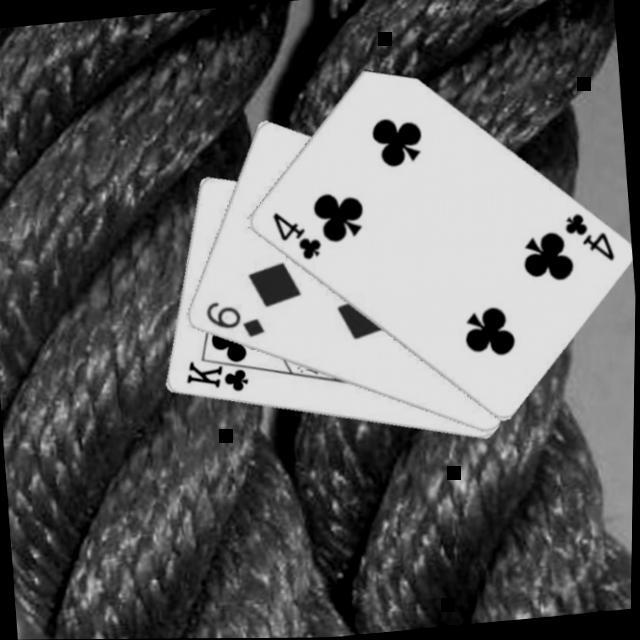4C: (560, 205, 620, 268), (270, 204, 328, 264)
6D: (202, 292, 271, 342)
KC: (182, 346, 265, 397)
